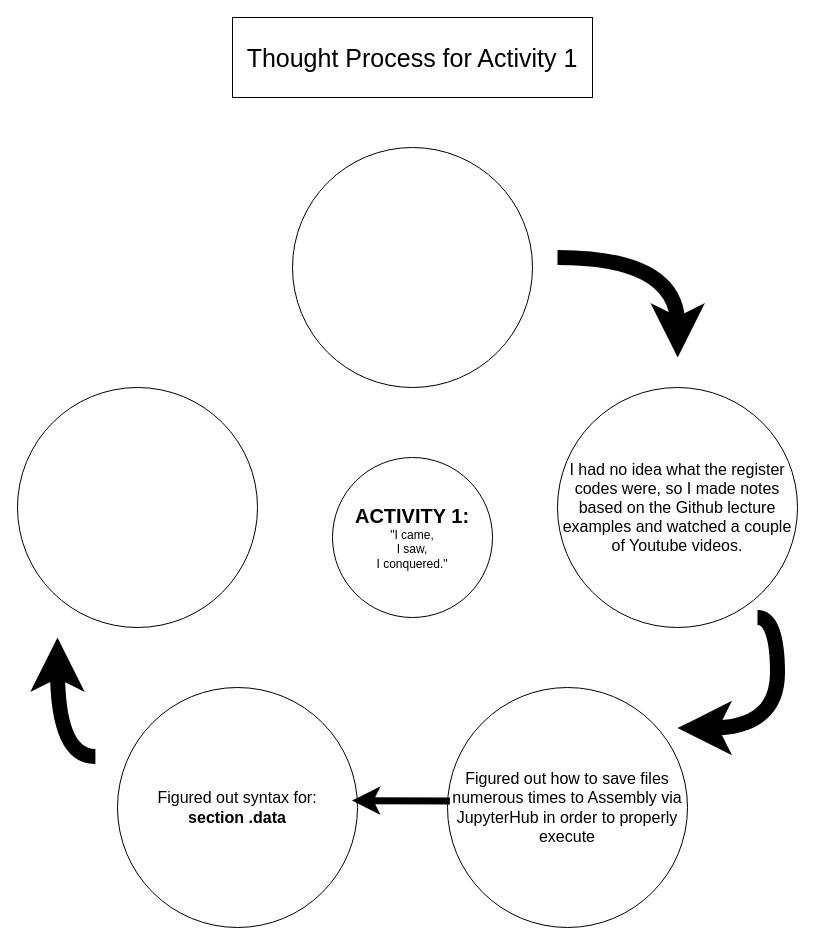
This 815x945 diagram has some shape labels left out. The shapes that lost their labels are listed below. From the top down, each one's centre as x and y in pixels, then its label:
the point at 412,267: I found out how to use _start: and what register codes denoted
the point at 137,507: Executed
